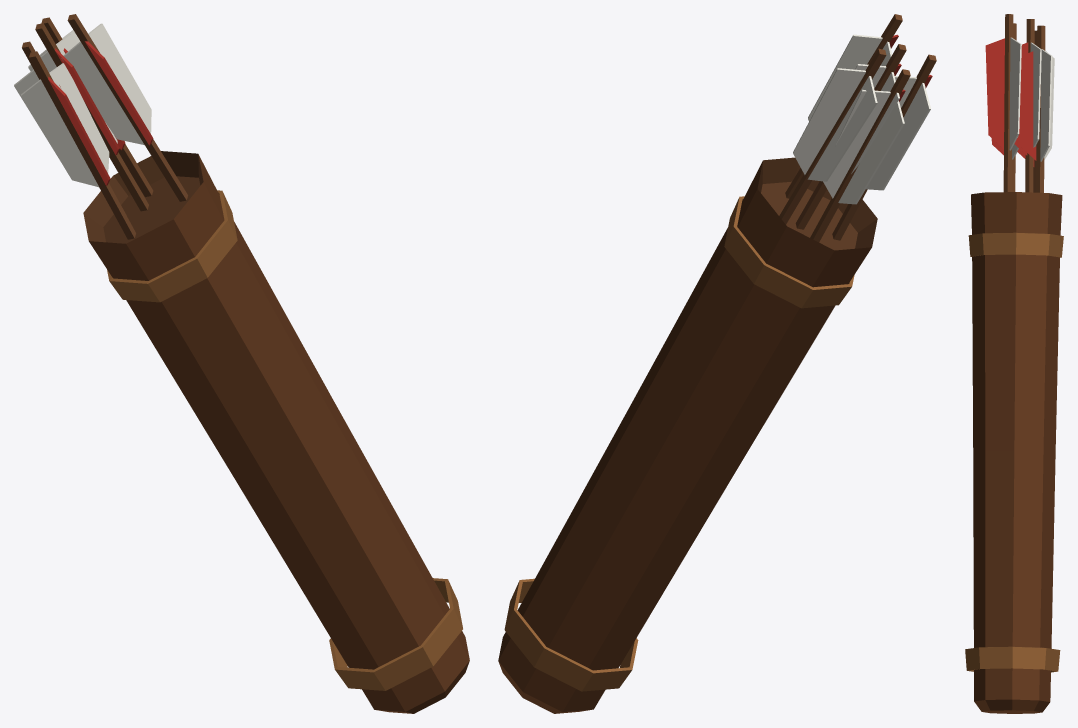
File: W2_Quiver.fbx
3 views of the same model, side by side, from view 1: azimuth 30°, elevation 25°; view 2: azimuth 150°, elevation 25°; view 3: azimuth 270°, elevation 25° (orthographic). The views are drawn at different scales.
Visible parts, largest first — view 1: W2_Quiver; view 2: W2_Quiver; view 3: W2_Quiver.
Part boxes in pixels (x1,y1,x2,y2): W2_Quiver: (14,14,469,713); W2_Quiver: (498,14,936,713); W2_Quiver: (965,14,1063,713).
Size of the model in its own units: 42.33 by 71.8 by 11.
